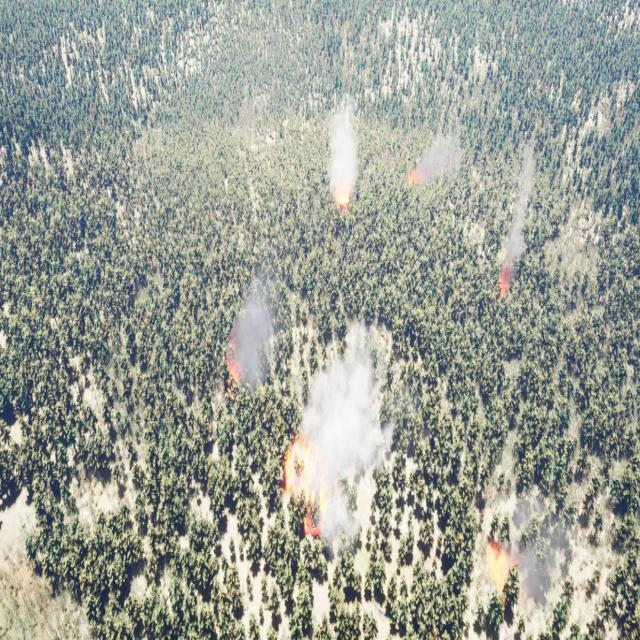fire: (283, 429, 328, 536), (487, 544, 521, 593), (224, 358, 242, 392), (331, 180, 350, 208), (407, 162, 424, 193), (498, 268, 511, 301)
smoke: (301, 313, 401, 567), (486, 498, 574, 605), (502, 133, 542, 277), (232, 274, 274, 406), (326, 102, 358, 212), (416, 136, 466, 191)
